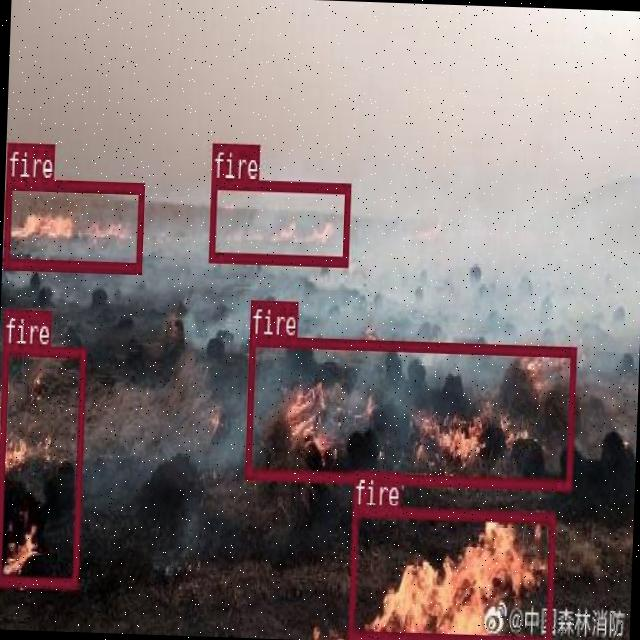fire: (243, 334, 576, 488), (346, 503, 554, 640), (0, 342, 84, 586), (2, 176, 143, 270), (208, 178, 350, 264)
